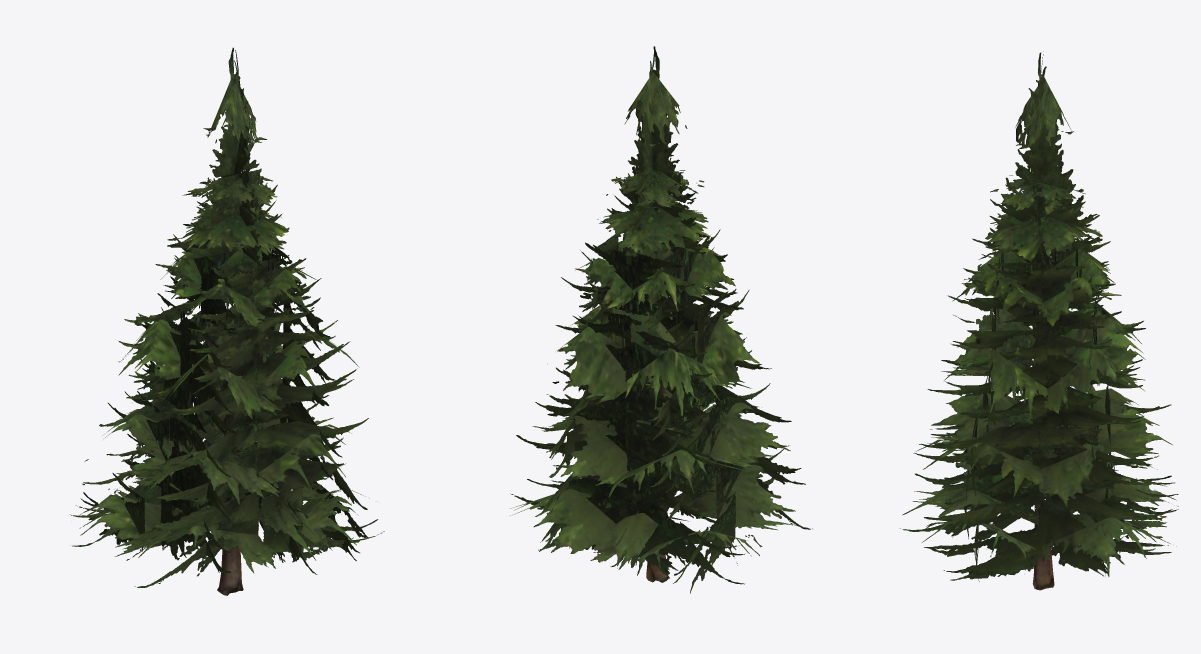
Rendered from fir-spire-far.glb.
The picture shows the model from 3 angles, left to right: view 1: azimuth 30°, elevation 25°; view 2: azimuth 150°, elevation 25°; view 3: azimuth 270°, elevation 25°; orthographic projection. The views are drawn at different scales.
Visible parts, largest first — view 1: Foliage, Wood; view 2: Foliage; view 3: Foliage, Wood.
Part boxes in pixels (<box>): Foliage: <box>70,47,384,587</box>; Wood: <box>126,382,351,595</box>; Foliage: <box>510,46,812,593</box>; Foliage: <box>900,51,1178,581</box>; Wood: <box>1030,422,1166,590</box>.
Bounding box in the file's own units: 6.56 × 12.14 × 6.07.
2 materials, 2 textured.
